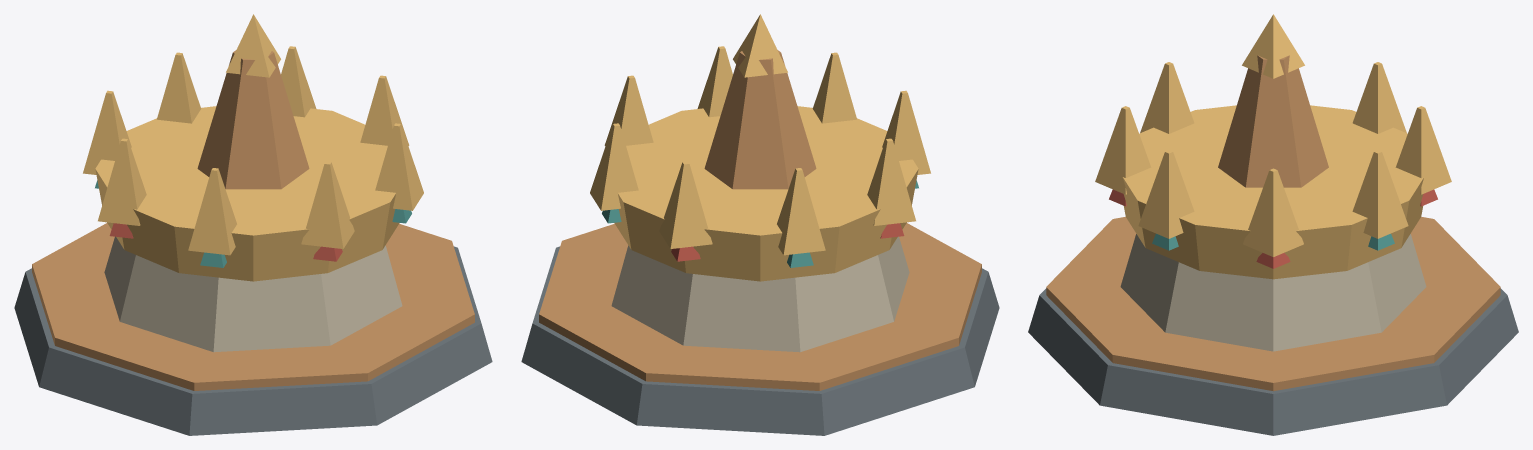
The model's file is titles.glb.
3 renders of one model, left to right at view 1: azimuth 30°, elevation 25°; view 2: azimuth 150°, elevation 25°; view 3: azimuth 270°, elevation 25°, orthographic.
Parts seen in each view (by area): view 1: Fassung.002, Kronenreif, Sockel.002, Steinpostament, Insignie, Kronenzacke.006, Kronenzacke.005, Kronenzacke.004, Kronenzacke.007, Kronenzacke.002, Kronenzacke.003, Spitze (+2 smaller); view 2: Fassung.002, Kronenreif, Sockel.002, Steinpostament, Insignie, Kronenzacke.002, Kronenzacke.003, Kronenzacke.004, Kronenzacke.001, Kronenzacke.006, Kronenzacke.005, Spitze (+2 smaller); view 3: Fassung.002, Kronenreif, Sockel.002, Steinpostament, Insignie, Kronenzacke, Kronenzacke.001, Kronenzacke.007, Kronenzacke.002, Kronenzacke.006, Kronenzacke.003, Kronenzacke.005 (+1 smaller).
Part boxes in pixels (bbox=[...]): Fassung.002: bbox=[32, 223, 474, 390]; Kronenreif: bbox=[95, 106, 399, 281]; Sockel.002: bbox=[14, 246, 492, 435]; Steinpostament: bbox=[104, 236, 402, 352]; Insignie: bbox=[197, 50, 309, 189]; Kronenzacke.006: bbox=[301, 161, 354, 248]; Kronenzacke.005: bbox=[188, 168, 236, 255]; Kronenzacke.004: bbox=[98, 138, 146, 225]; Kronenzacke.007: bbox=[375, 123, 423, 210]; Kronenzacke.002: bbox=[157, 52, 201, 123]; Kronenzacke.003: bbox=[83, 90, 131, 174]; Spitze: bbox=[226, 14, 280, 77]; Fassung.002: bbox=[539, 223, 981, 390]; Kronenreif: bbox=[614, 106, 918, 281]; Sockel.002: bbox=[521, 246, 999, 435]; Steinpostament: bbox=[611, 236, 909, 352]; Insignie: bbox=[704, 50, 816, 189]; Kronenzacke.002: bbox=[659, 161, 712, 248]; Kronenzacke.003: bbox=[777, 168, 825, 255]; Kronenzacke.004: bbox=[867, 138, 915, 225]; Kronenzacke.001: bbox=[590, 123, 638, 210]; Kronenzacke.006: bbox=[812, 52, 856, 123]; Kronenzacke.005: bbox=[882, 90, 930, 174]; Spitze: bbox=[733, 14, 787, 77]; Fassung.002: bbox=[1046, 217, 1500, 391]; Kronenreif: bbox=[1123, 105, 1423, 279]; Sockel.002: bbox=[1028, 288, 1518, 435]; Steinpostament: bbox=[1120, 234, 1426, 351]; Insignie: bbox=[1218, 55, 1328, 187]; Kronenzacke: bbox=[1243, 168, 1303, 256]; Kronenzacke.001: bbox=[1352, 150, 1408, 238]; Kronenzacke.007: bbox=[1138, 150, 1194, 238]; Kronenzacke.002: bbox=[1395, 106, 1451, 194]; Kronenzacke.006: bbox=[1095, 106, 1151, 194]; Kronenzacke.003: bbox=[1352, 62, 1406, 133]; Kronenzacke.005: bbox=[1140, 62, 1194, 133].
Bounding box in the file's own units: 2.16 × 1.54 × 2.16.
